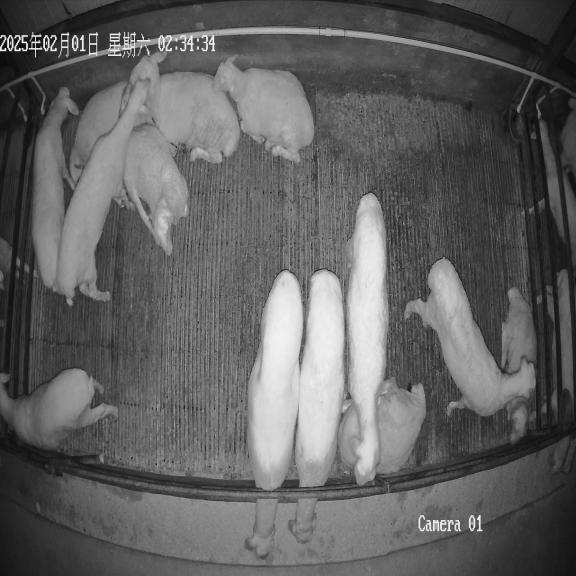eating: (247, 270, 303, 565), (291, 270, 345, 549)
lying: (128, 53, 241, 163), (214, 57, 314, 162), (338, 378, 426, 485), (68, 81, 150, 188), (124, 124, 188, 255), (501, 287, 537, 442)
stand: (405, 258, 535, 416), (56, 81, 147, 304), (346, 193, 388, 485), (0, 368, 117, 449), (32, 88, 78, 291)
